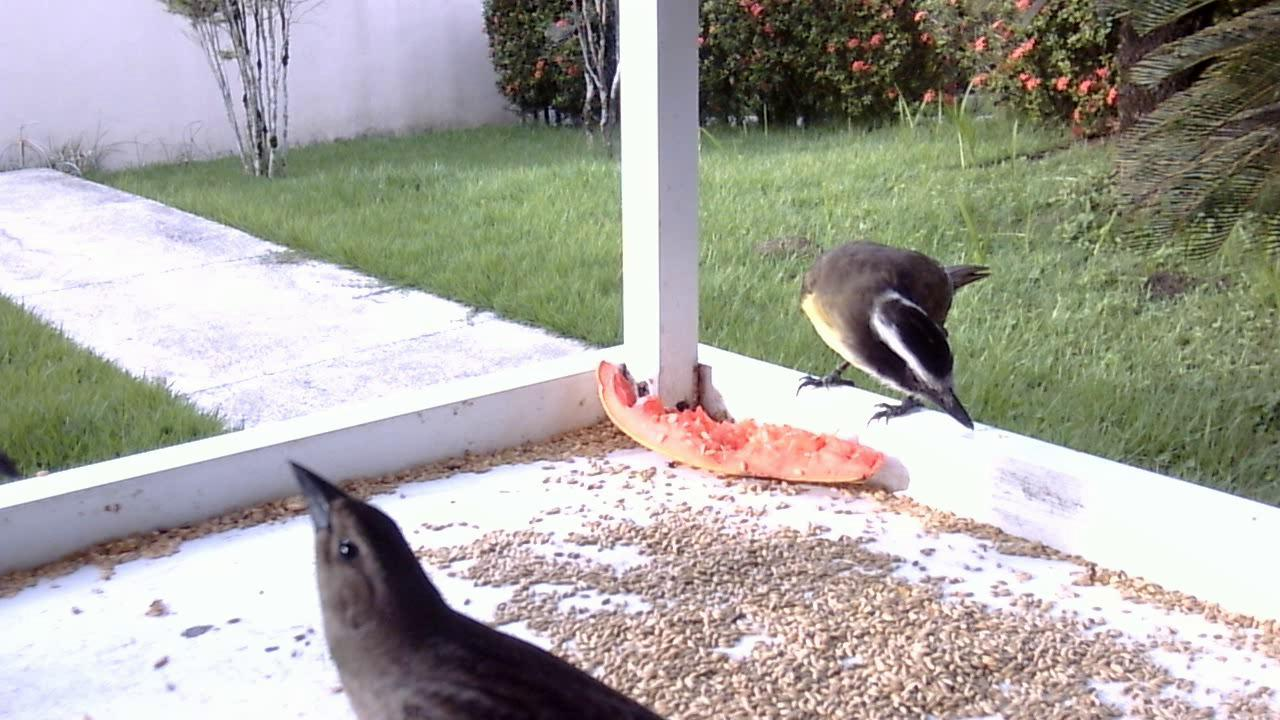bem_te_vi: (790, 232, 995, 440), (790, 234, 994, 440)
chupim: (280, 441, 671, 720)
